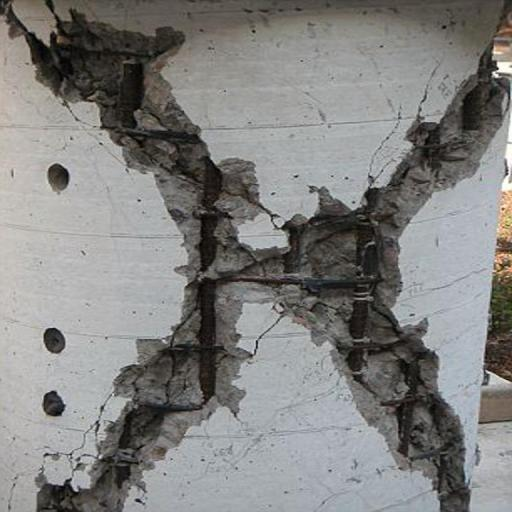spalling: (5, 3, 510, 512)
